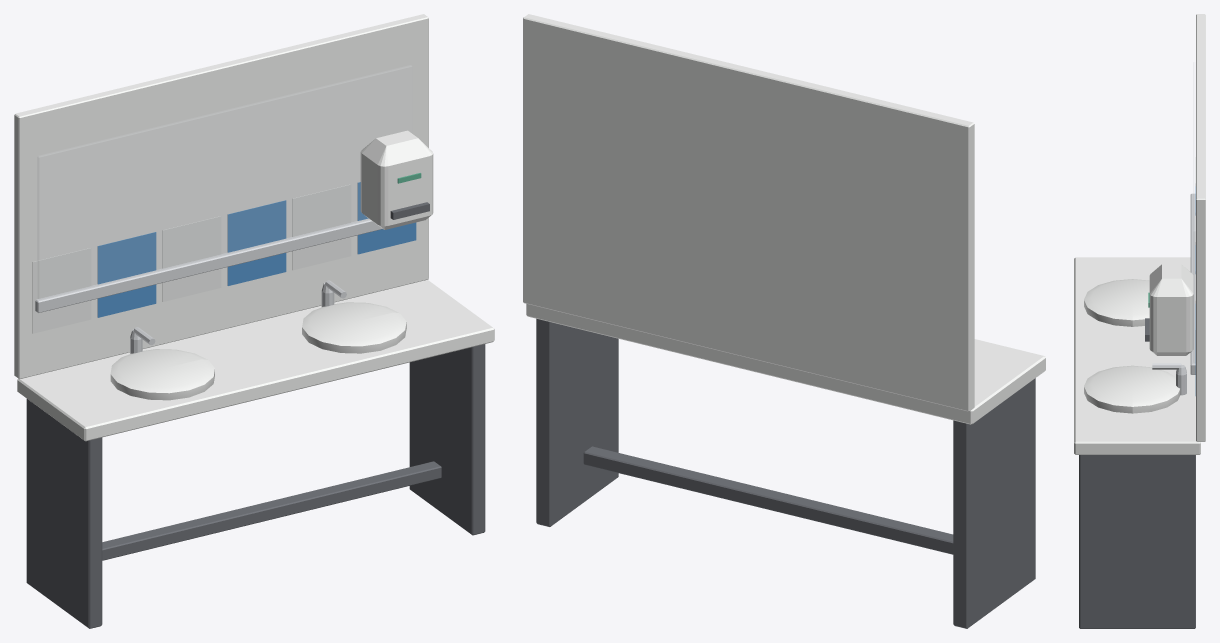
The model's file is public-swimming-baths-and-poolside-basin-and-mirror-ru-52dfe6bb__35271.glb.
3 renders of one model, left to right at view 1: azimuth 30°, elevation 25°; view 2: azimuth 150°, elevation 25°; view 3: azimuth 270°, elevation 25°, orthographic. The views are drawn at different scales.
Parts seen in each view (by area): view 1: basin-and-mirror-run; view 2: basin-and-mirror-run; view 3: basin-and-mirror-run.
Part boxes in pixels (x1,y1,x2,y2): basin-and-mirror-run: (14,14,494,628); basin-and-mirror-run: (523,14,1045,628); basin-and-mirror-run: (1074,14,1205,628).
Bounding box in the file's own units: 1.8 × 1.96 × 0.5399.
